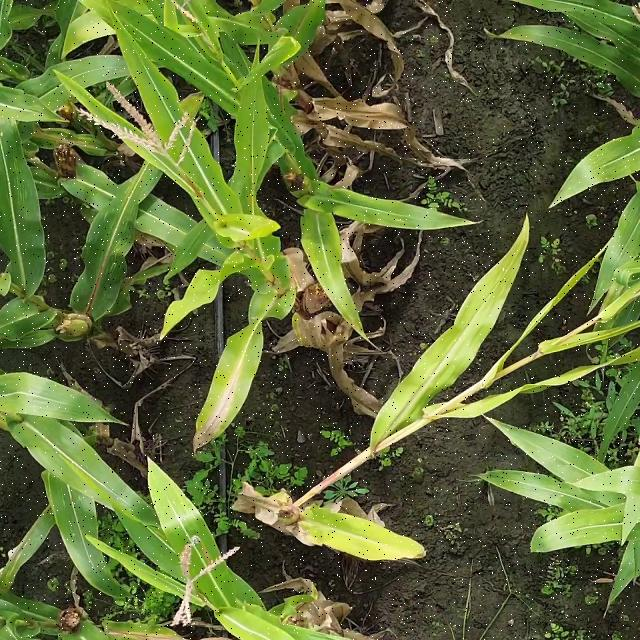gray-leaf-spot: (103, 193, 148, 307), (8, 153, 48, 249)
northern-leaf-blight: (190, 367, 254, 450)
southern-leaf-blight: (59, 493, 104, 580)
